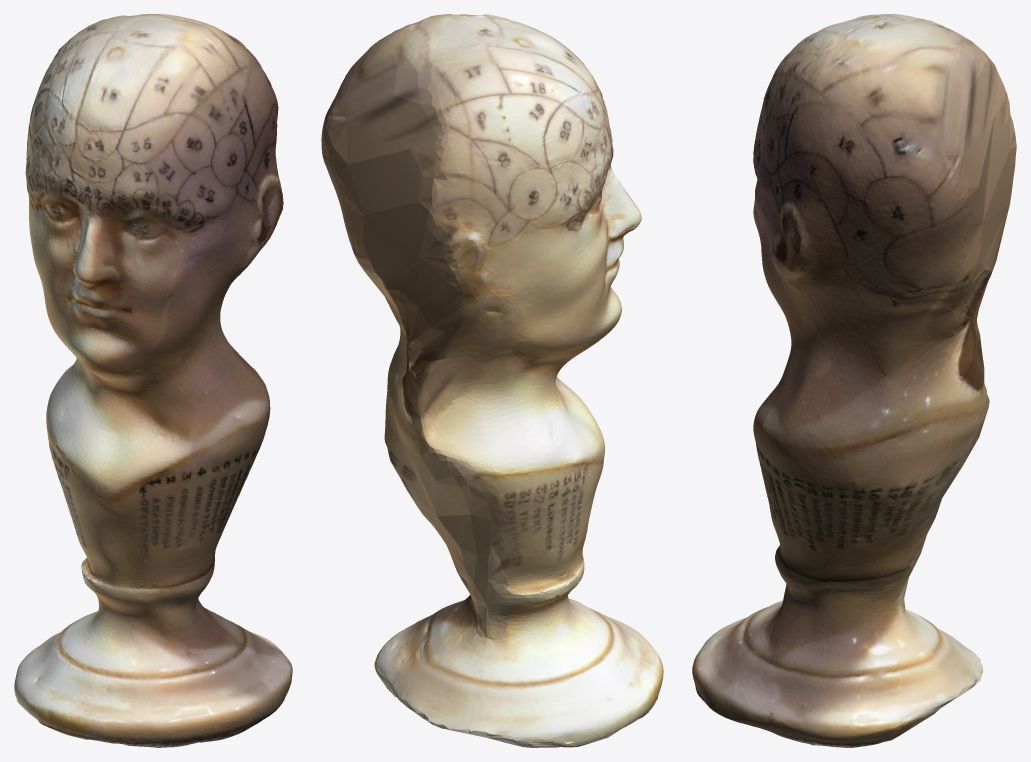
Rendered from scan01.glb.
The picture shows the model from 3 angles, left to right: view 1: azimuth 30°, elevation 25°; view 2: azimuth 150°, elevation 25°; view 3: azimuth 270°, elevation 25°; orthographic projection. The views are drawn at different scales.
Bounding box in the file's own units: 0.8413 × 2 × 0.8646.
1 material, 1 textured.
